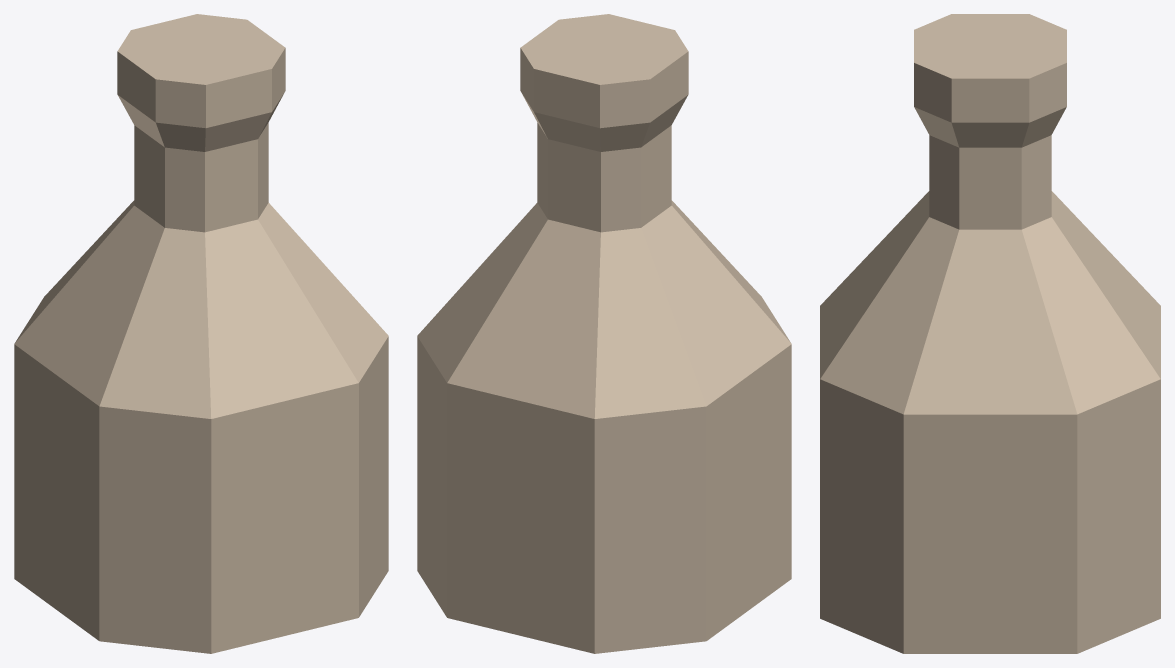
File: bottlelarge.glb
3 renders of one model, left to right at view 1: azimuth 30°, elevation 25°; view 2: azimuth 150°, elevation 25°; view 3: azimuth 270°, elevation 25°, orthographic.
Parts seen in each view (by area): view 1: bottleLarge; view 2: bottleLarge; view 3: bottleLarge.
Part boxes in pixels (bbox=[...]): bottleLarge: bbox=[14, 14, 388, 653]; bottleLarge: bbox=[417, 14, 791, 653]; bottleLarge: bbox=[820, 14, 1160, 653].
Size of the model in its own units: 2.45 by 4.25 by 2.45.
